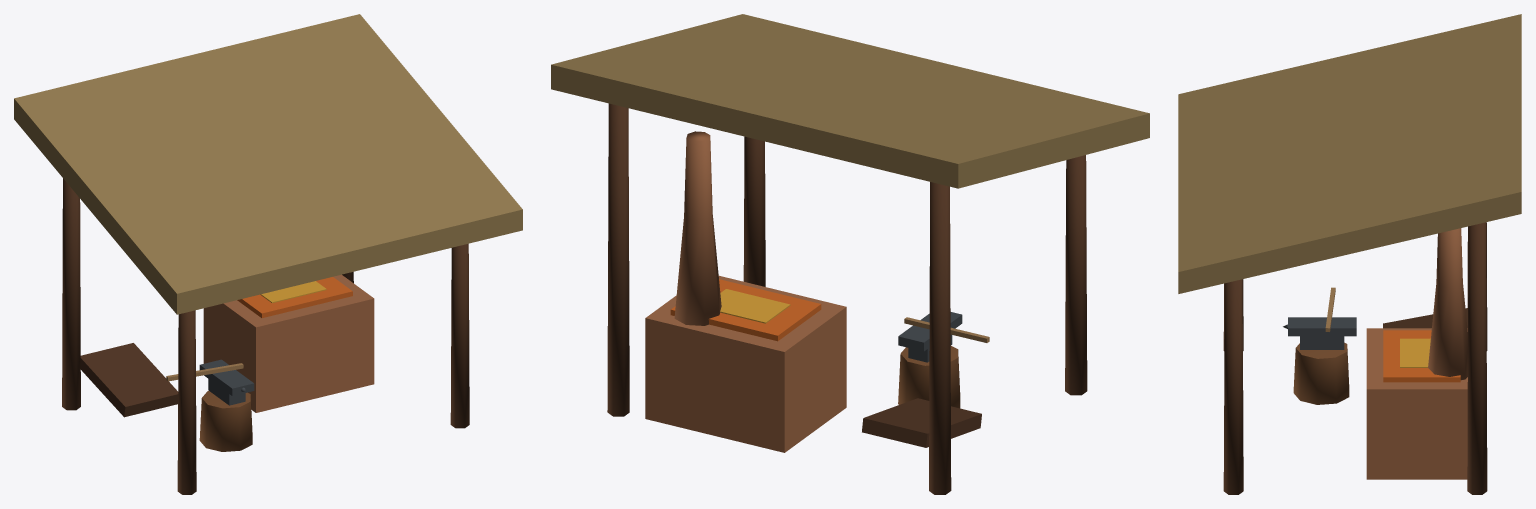
The model's file is kuznya.glb.
The picture shows the model from 3 angles, left to right: view 1: azimuth 30°, elevation 25°; view 2: azimuth 150°, elevation 25°; view 3: azimuth 270°, elevation 25°; orthographic projection. The views are drawn at different scales.
Parts seen in each view (by area): view 1: kuznya; view 2: kuznya; view 3: kuznya.
Boxes of the visible parts, x1=… form: kuznya: x1=14, y1=14, x2=522, y2=494; kuznya: x1=551, y1=14, x2=1149, y2=494; kuznya: x1=1178, y1=14, x2=1521, y2=494.
Bounding box in the file's own units: 3.8 × 3.17 × 3.1.
